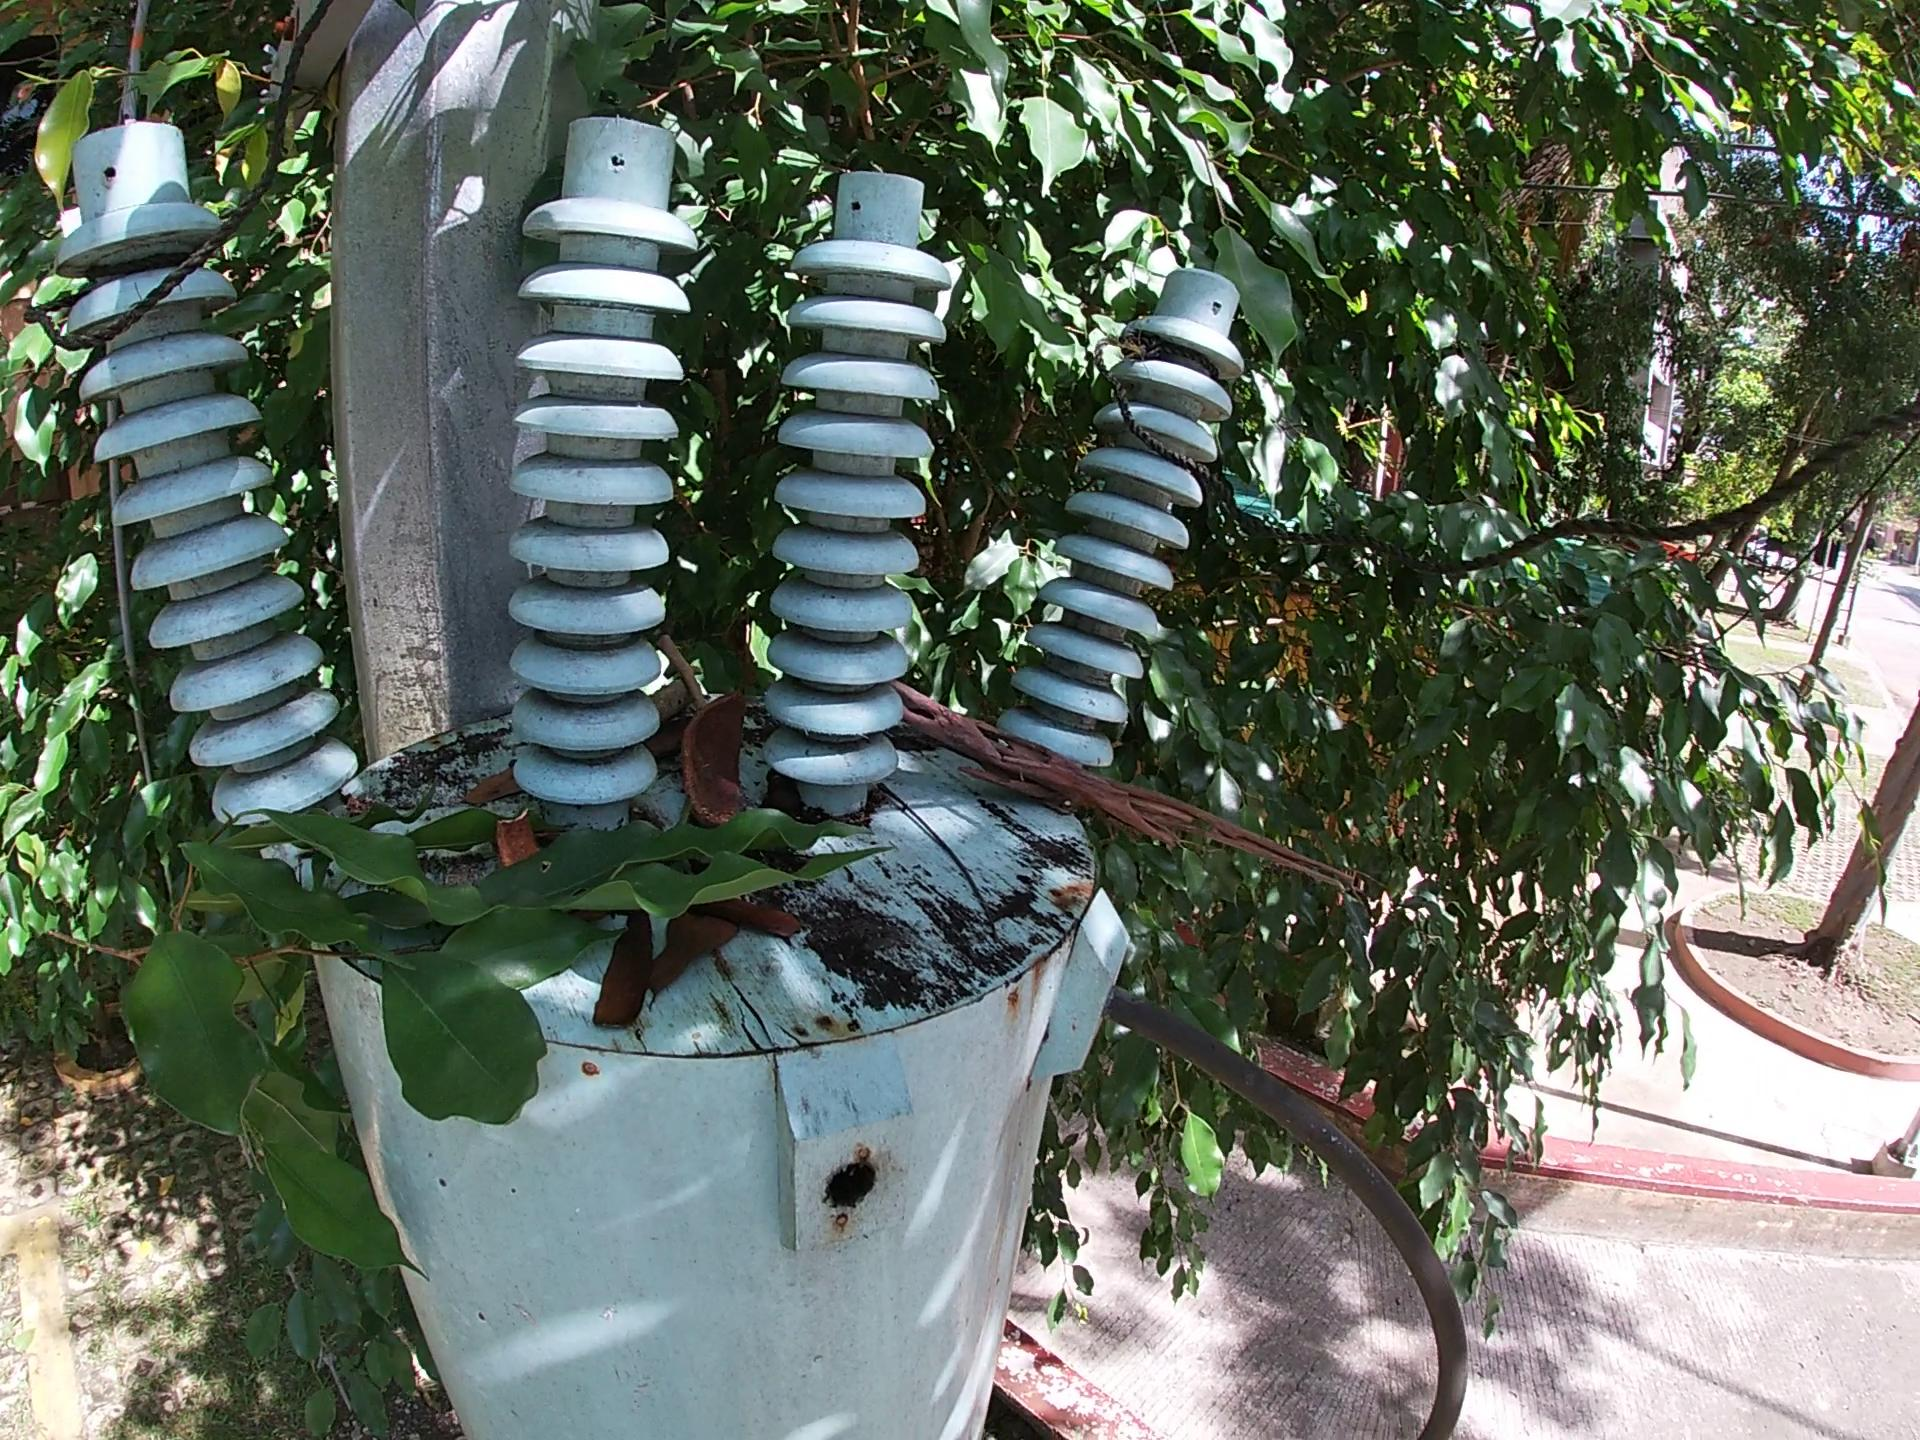branch with leaves: (110, 796, 909, 1289)
leaf: (587, 902, 664, 1042), (644, 908, 741, 1019), (694, 898, 807, 942), (457, 767, 525, 802)
mahogany fruit: (673, 684, 756, 829), (494, 809, 540, 871)
tree branch: (887, 676, 1358, 898), (658, 637, 709, 709)
